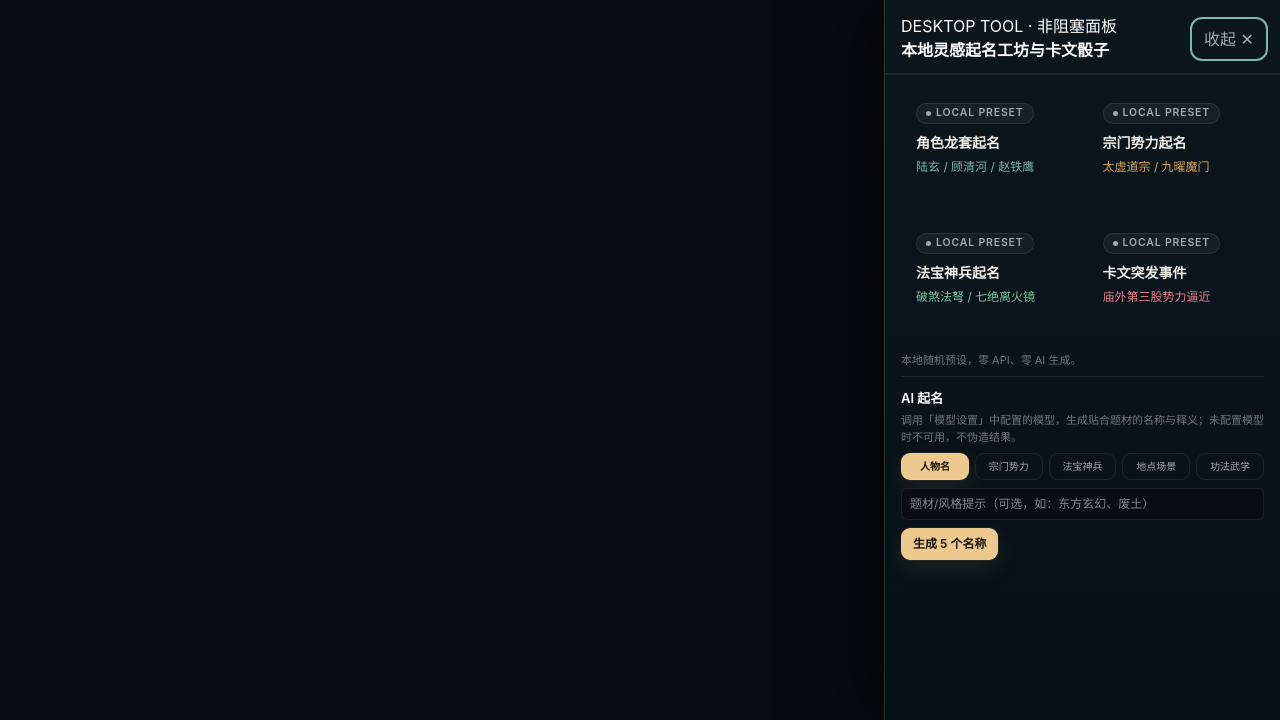
it: DesktopToolModals · AI 起名（.scratch/mozhou-mvp/issues/22-openwrite-parity-memo-naming.md） › 未配置模型（501）→ 显式提示，不渲染任何伪造名称
Click the button with test id "naming-generate": click(950, 544) [901,528,998,560]
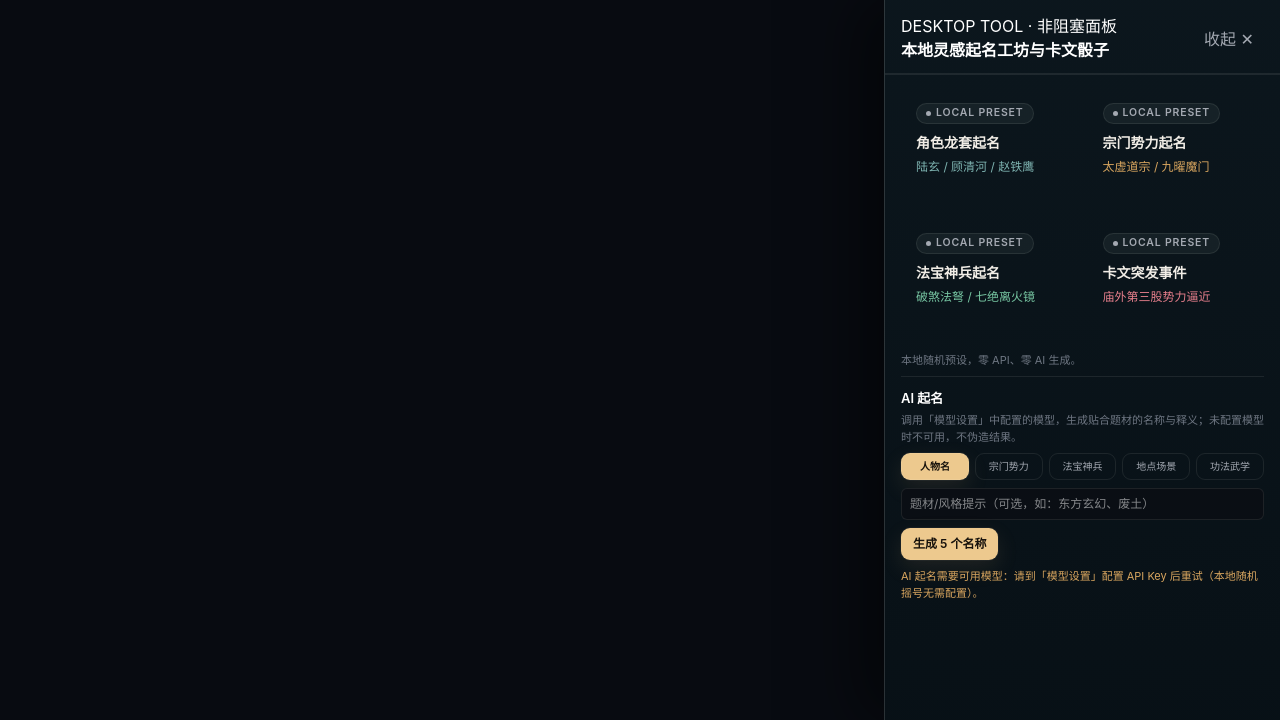
Expected: the message "AI 起名需要可用模型：请到「模型设置」配置 API Key 后重试（本地随机摇号无需配置）。" is shown, [901,568,1264,601]
Expected: the message with test id "naming-error" shows "模型设置", [901,569,1258,600]
